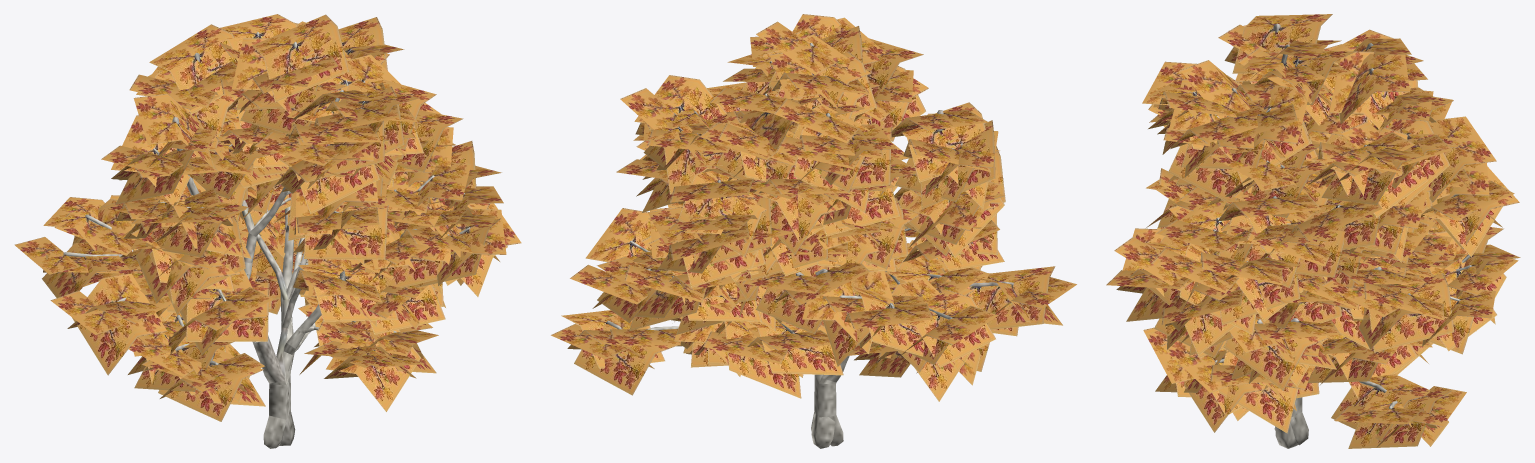
Rendered from tree_8.obj.
The picture shows the model from 3 angles, left to right: view 1: azimuth 30°, elevation 25°; view 2: azimuth 150°, elevation 25°; view 3: azimuth 270°, elevation 25°; orthographic projection. The views are drawn at different scales.
Visible parts, largest first — view 1: Wallnut_; view 2: Wallnut_; view 3: Wallnut_.
Boxes of the visible parts, left/top/right/bottom form: Wallnut_: left=14, top=14, right=521, bottom=448; Wallnut_: left=551, top=14, right=1076, bottom=448; Wallnut_: left=1106, top=14, right=1520, bottom=448.
Bounding box in the file's own units: 19.37 × 17.61 × 15.84.
Materials: 1 (1 with a texture image).
